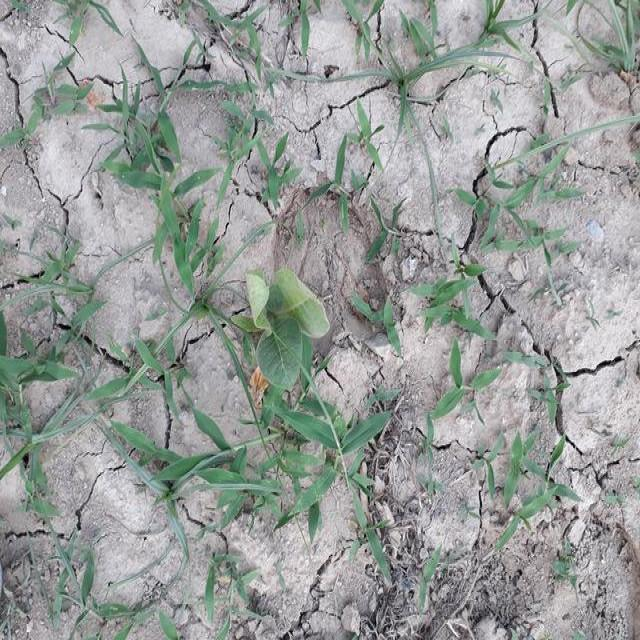crop: (240, 267, 328, 391)
